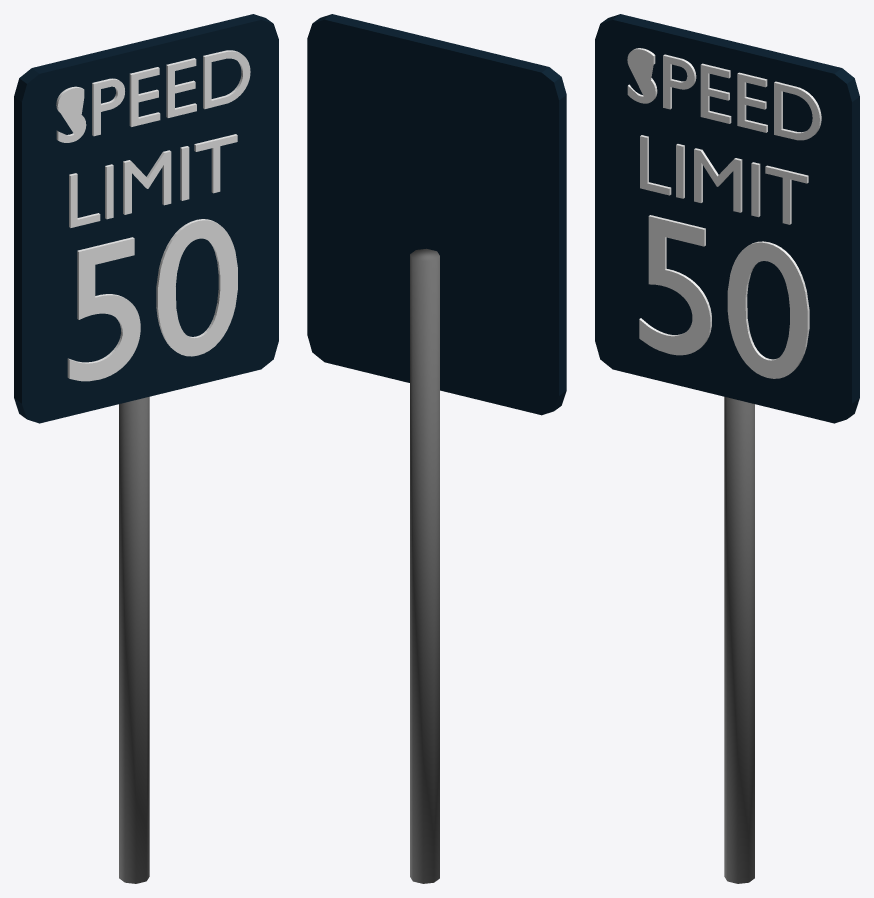
File: Prop_StreetSign_Speed_50.fbx
3 views of the same model, side by side, from view 1: azimuth 30°, elevation 25°; view 2: azimuth 150°, elevation 25°; view 3: azimuth 330°, elevation 25° (orthographic). The views are drawn at different scales.
Parts seen in each view (by area): view 1: Prop_StreetSign_Speed_50; view 2: Prop_StreetSign_Speed_50; view 3: Prop_StreetSign_Speed_50.
Boxes of the visible parts, x1,y1,x2,y2 form: Prop_StreetSign_Speed_50: (14, 14, 278, 883); Prop_StreetSign_Speed_50: (307, 14, 566, 883); Prop_StreetSign_Speed_50: (595, 14, 859, 883).
Bounding box in the file's own units: 140 × 438 × 23.65.
